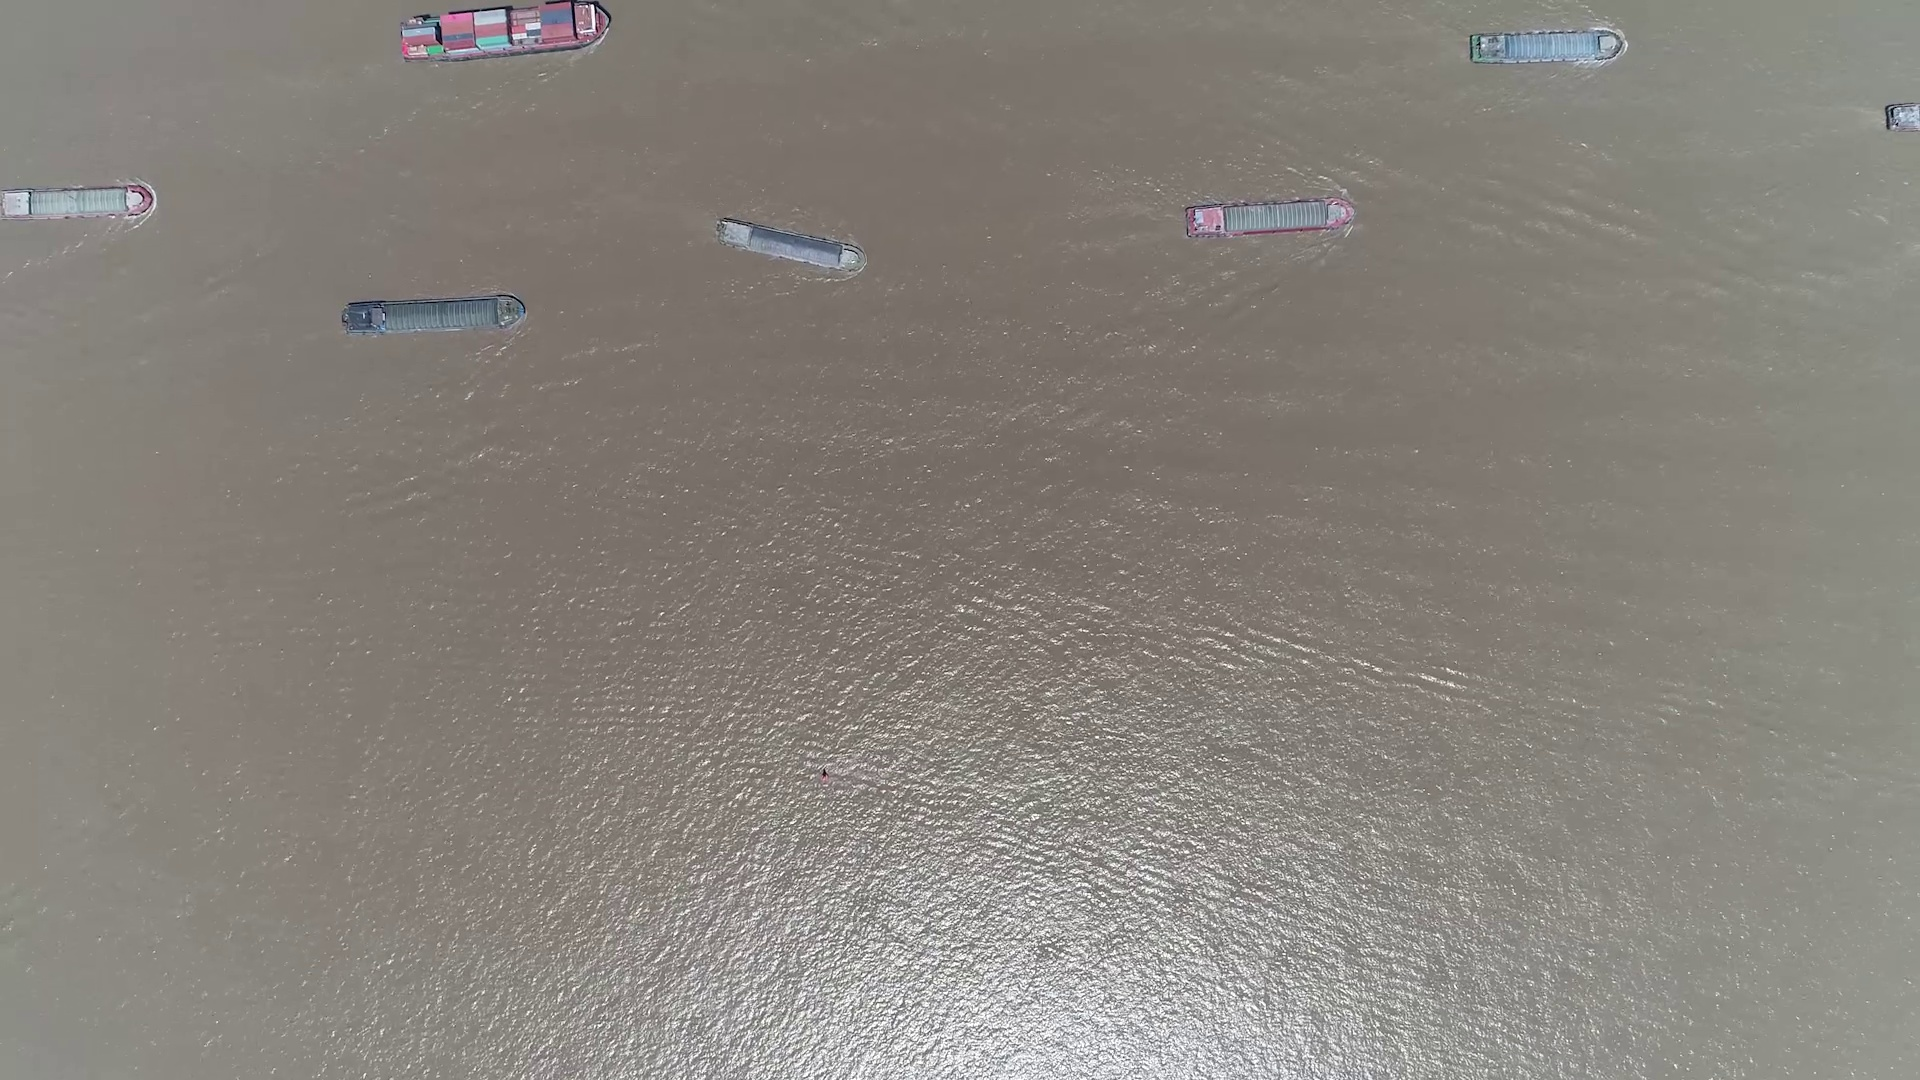ship: (398, 3, 607, 59), (713, 219, 862, 273), (342, 297, 524, 336), (1185, 200, 1354, 237), (0, 187, 152, 219)
